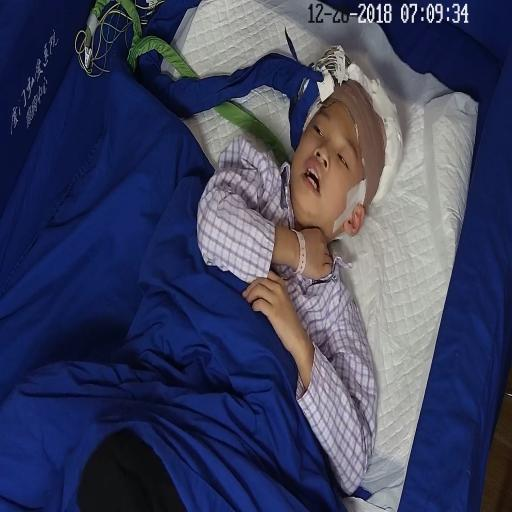Seizure: (287, 91, 365, 228)
